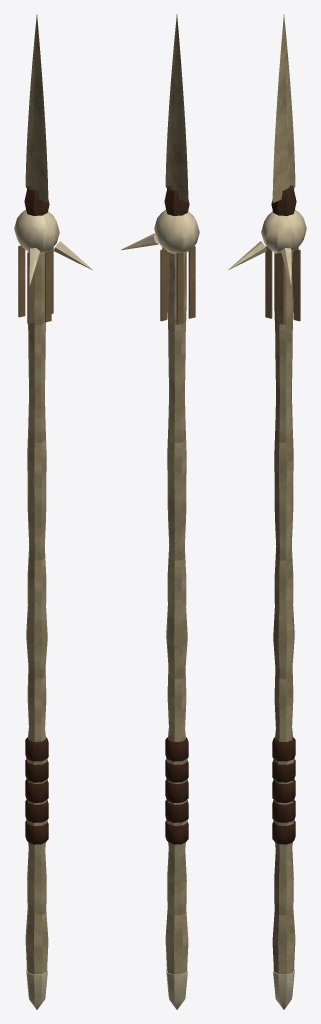
File: bone_spear.glb
3 renders of one model, left to right at view 1: azimuth 30°, elevation 25°; view 2: azimuth 210°, elevation 25°; view 3: azimuth 330°, elevation 25°, orthographic.
Visible parts, largest first — view 1: bone_spear; view 2: bone_spear; view 3: bone_spear.
Part boxes in pixels (<box>): bone_spear: <box>14,14,92,1009</box>; bone_spear: <box>121,14,199,1009</box>; bone_spear: <box>228,14,306,1009</box>.
Size of the model in its own units: 0.1685 by 2.53 by 0.1691.
5 materials, 5 textured.
